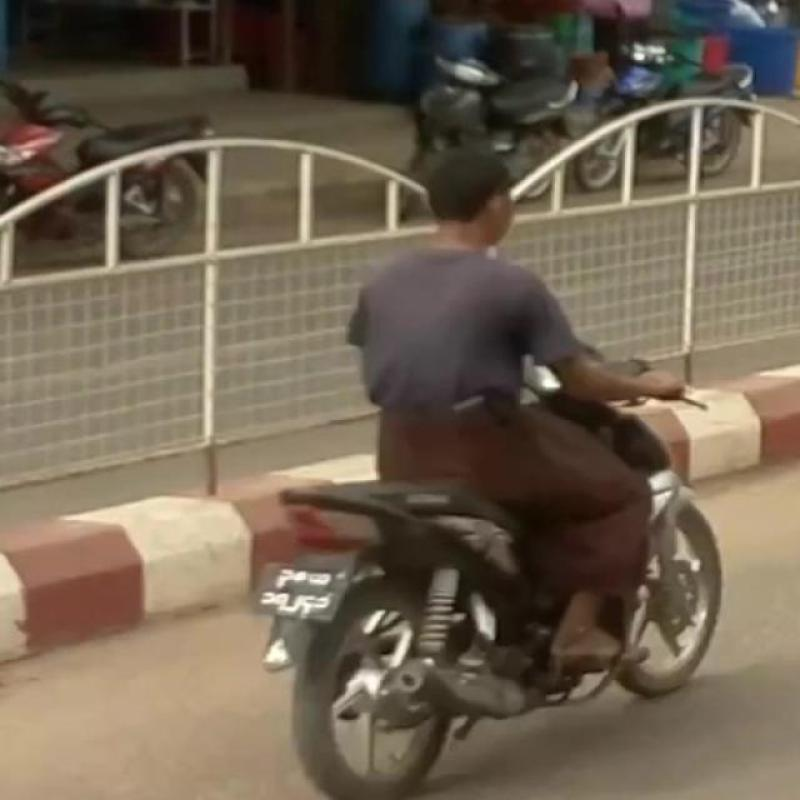nohelmet: (375, 124, 541, 272)
